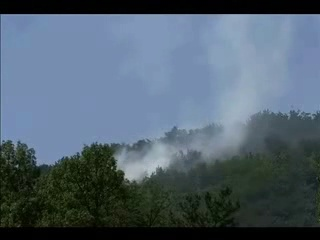smoke: (198, 14, 285, 162), (108, 129, 198, 184)
